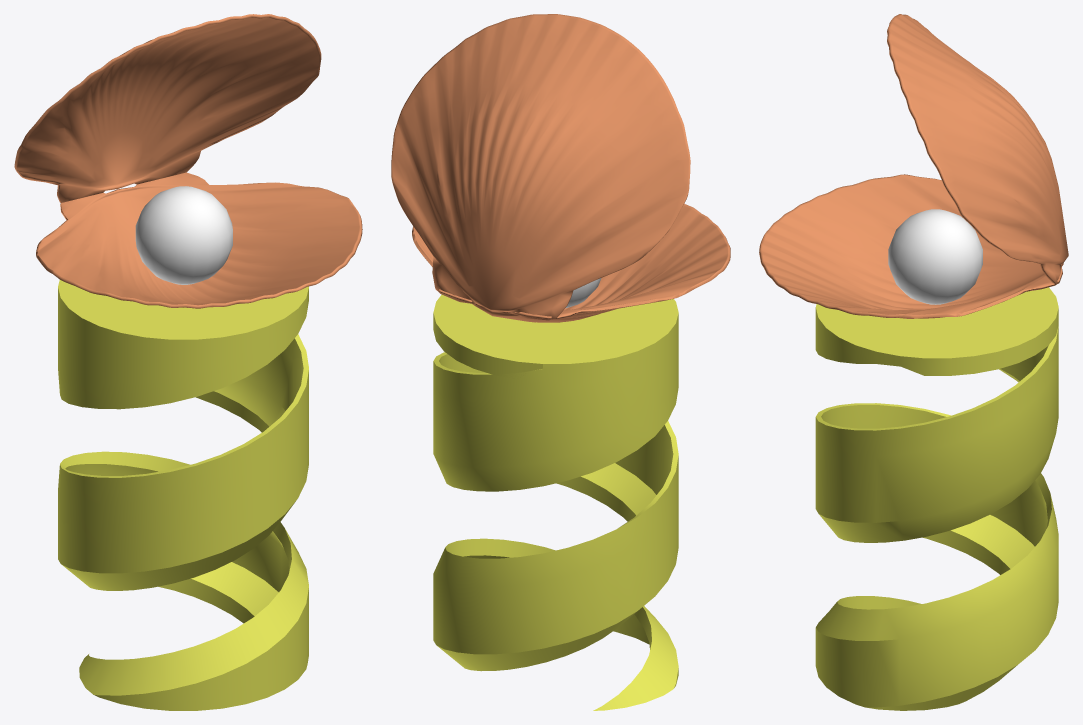
File: inci.fbx
The picture shows the model from 3 angles, left to right: view 1: azimuth 30°, elevation 25°; view 2: azimuth 150°, elevation 25°; view 3: azimuth 270°, elevation 25°; orthographic projection. The views are drawn at different scales.
Visible parts, largest first — view 1: alt.005, inciKabuk2.007, inciKabuk2.008, Sphere.008; view 2: alt.005, inciKabuk2.007, inciKabuk2.008; view 3: alt.005, inciKabuk2.007, inciKabuk2.008, Sphere.008.
Part boxes in pixels (x1=…): alt.005: x1=58, y1=280, x2=308, y2=710; inciKabuk2.007: x1=14, y1=14, x2=321, y2=202; inciKabuk2.008: x1=36, y1=172, x2=362, y2=308; Sphere.008: x1=135, y1=186, x2=232, y2=284; alt.005: x1=433, y1=294, x2=678, y2=710; inciKabuk2.007: x1=391, y1=14, x2=690, y2=320; inciKabuk2.008: x1=412, y1=203, x2=730, y2=322; alt.005: x1=815, y1=287, x2=1058, y2=710; inciKabuk2.007: x1=887, y1=14, x2=1068, y2=283; inciKabuk2.008: x1=759, y1=174, x2=1063, y2=318; Sphere.008: x1=888, y1=209, x2=982, y2=304.
Size of the model in its own units: 103 by 216 by 95.56.
